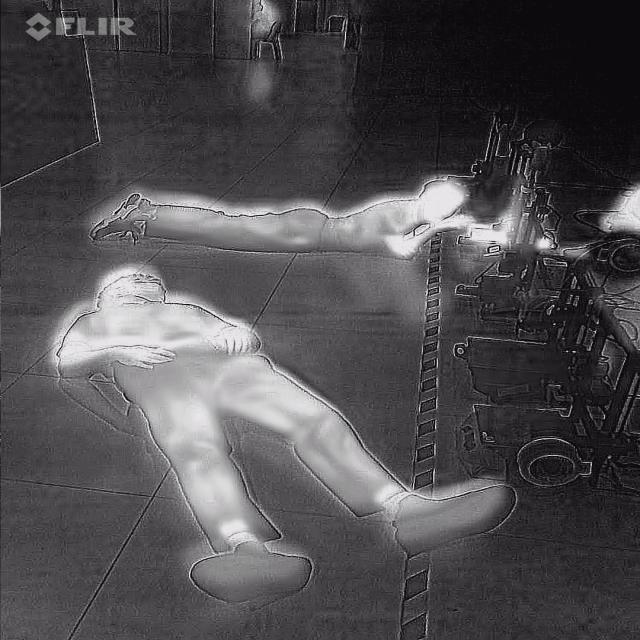Victim: (51, 260, 529, 613), (88, 157, 492, 263)
